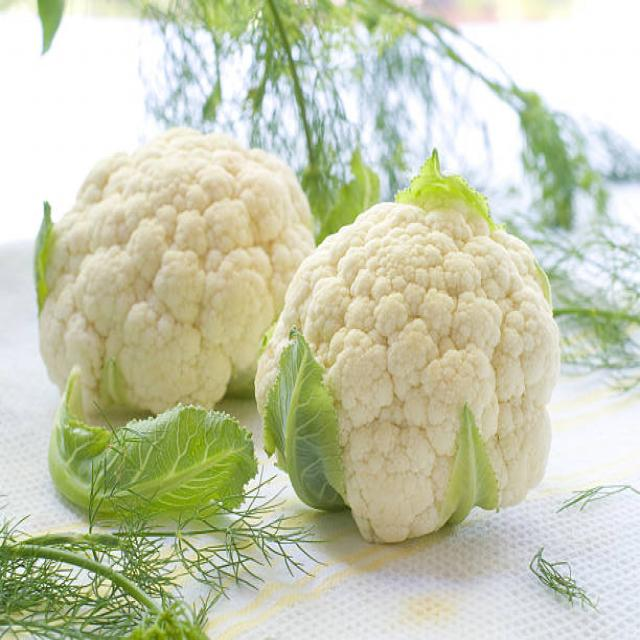Cauliflower head: (301, 202, 609, 574), (47, 124, 276, 422)
